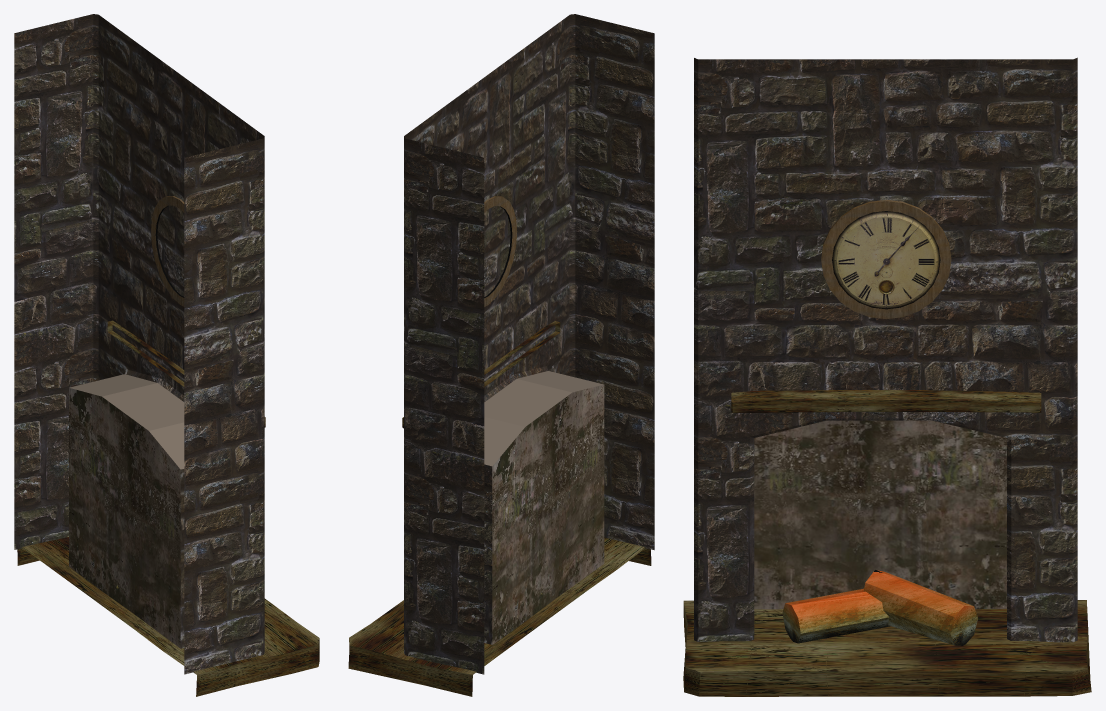
The model's file is P_Fireplace.fbx.
3 renders of one model, left to right at view 1: azimuth 30°, elevation 25°; view 2: azimuth 150°, elevation 25°; view 3: azimuth 270°, elevation 25°, orthographic. The views are drawn at different scales.
Parts seen in each view (by area): view 1: Empty_Mesh; view 2: Empty_Mesh; view 3: Empty_Mesh.
Boxes of the visible parts, x1,y1,x2,y2 form: Empty_Mesh: (14,14,319,696); Empty_Mesh: (348,14,654,696); Empty_Mesh: (683,57,1091,696).
Bounding box in the file's own units: 0.831 × 3.08 × 1.88.
